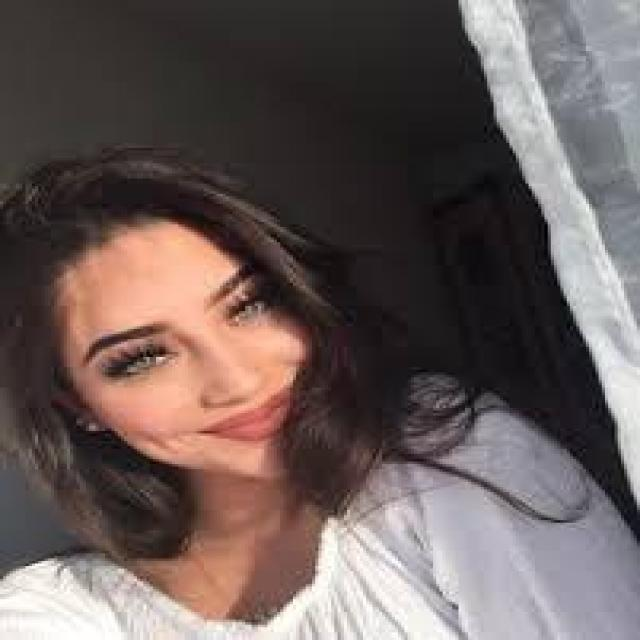person: (0, 140, 624, 635)
